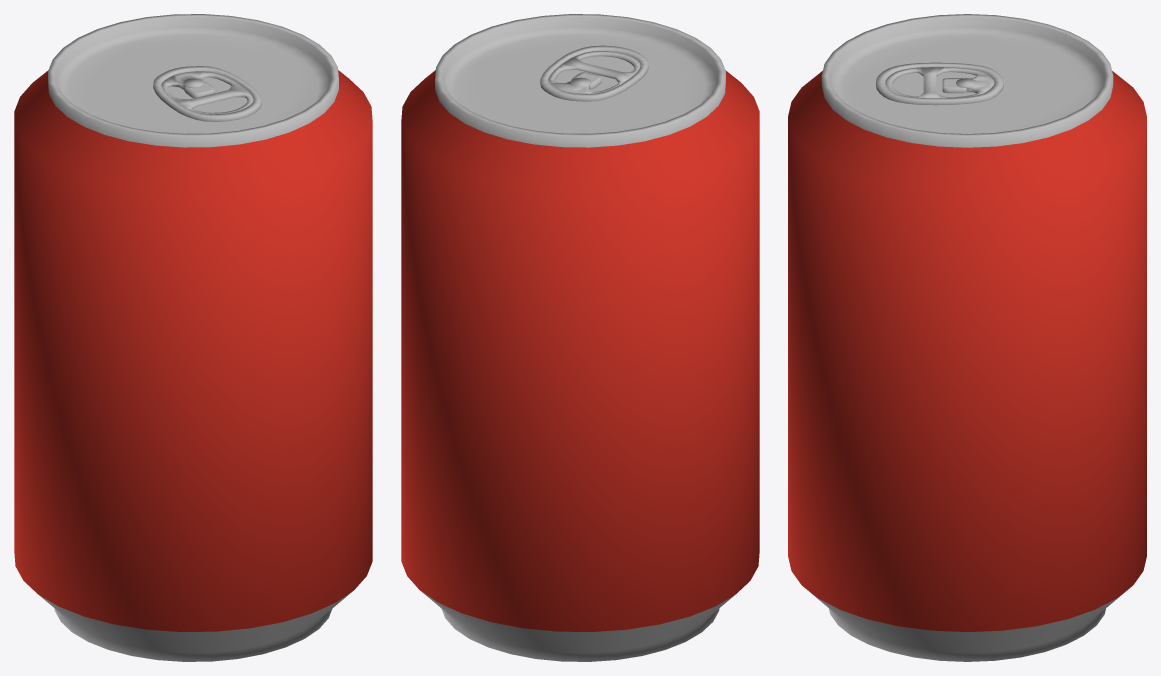
The model's file is CanSmall.fbx.
The picture shows the model from 3 angles, left to right: view 1: azimuth 30°, elevation 25°; view 2: azimuth 150°, elevation 25°; view 3: azimuth 270°, elevation 25°; orthographic projection.
Visible parts, largest first — view 1: CanSmall; view 2: CanSmall; view 3: CanSmall.
Boxes of the visible parts, x1,y1,x2,y2 form: CanSmall: (14,14,372,661); CanSmall: (401,14,759,661); CanSmall: (788,14,1146,661).
Size of the model in its own units: 5.6 by 5.6 by 9.07.
